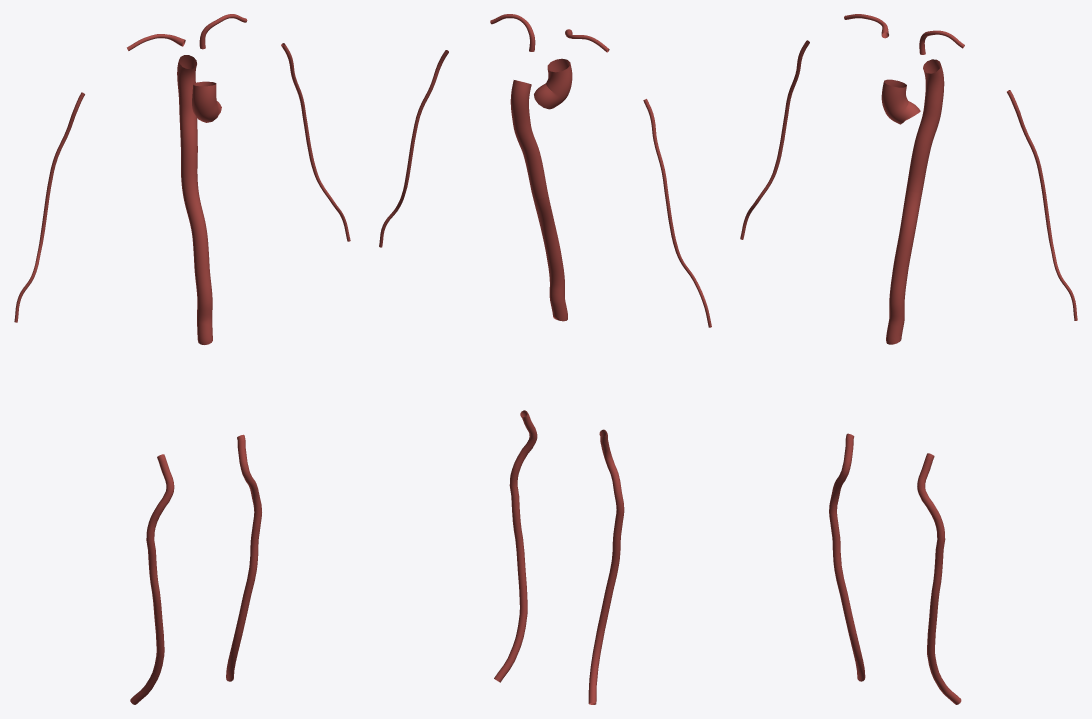
File: arterial-mobile.glb
The picture shows the model from 3 angles, left to right: view 1: azimuth 30°, elevation 25°; view 2: azimuth 150°, elevation 25°; view 3: azimuth 330°, elevation 25°; orthographic projection.
Visible parts, largest first — view 1: za.abdominal-aorta, za.thoracic-aorta, za.femoral-artery-r, za.femoral-artery-l, za.brachial-artery-r, za.ascending-aorta, za.brachial-artery-l; view 2: za.femoral-artery-l, za.femoral-artery-r, za.thoracic-aorta, za.abdominal-aorta, za.ascending-aorta, za.brachial-artery-r, za.brachial-artery-l; view 3: za.abdominal-aorta, za.thoracic-aorta, za.femoral-artery-l, za.femoral-artery-r, za.ascending-aorta, za.brachial-artery-l, za.brachial-artery-r.
Part boxes in pixels (left/top/right/bottom): za.abdominal-aorta: left=182, top=189, right=212, bottom=344; za.thoracic-aorta: left=177, top=55, right=198, bottom=190; za.femoral-artery-r: left=130, top=454, right=174, bottom=704; za.femoral-artery-l: left=226, top=434, right=261, bottom=681; za.brachial-artery-r: left=14, top=92, right=84, bottom=322; za.ascending-aorta: left=192, top=81, right=221, bottom=122; za.brachial-artery-l: left=281, top=43, right=350, bottom=241; za.femoral-artery-l: left=494, top=410, right=537, bottom=682; za.femoral-artery-r: left=588, top=429, right=624, bottom=704; za.thoracic-aorta: left=510, top=80, right=547, bottom=198; za.abdominal-aorta: left=532, top=194, right=567, bottom=321; za.ascending-aorta: left=534, top=58, right=572, bottom=109; za.brachial-artery-r: left=643, top=99, right=711, bottom=327; za.brachial-artery-l: left=379, top=50, right=448, bottom=247; za.abdominal-aorta: left=886, top=189, right=922, bottom=344; za.thoracic-aorta: left=906, top=59, right=944, bottom=192; za.femoral-artery-l: left=917, top=453, right=961, bottom=704; za.femoral-artery-r: left=829, top=433, right=865, bottom=681; za.ascending-aorta: left=881, top=79, right=920, bottom=124; za.brachial-artery-l: left=1007, top=90, right=1077, bottom=320; za.brachial-artery-r: left=740, top=40, right=809, bottom=239.
Size of the model in its own units: 0.4532 by 0.8676 by 0.1007.
